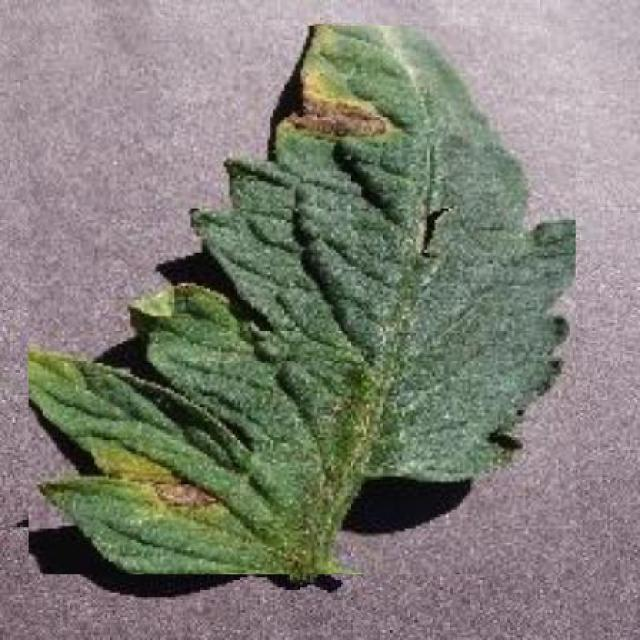Early Blight: (28, 25, 576, 575)
